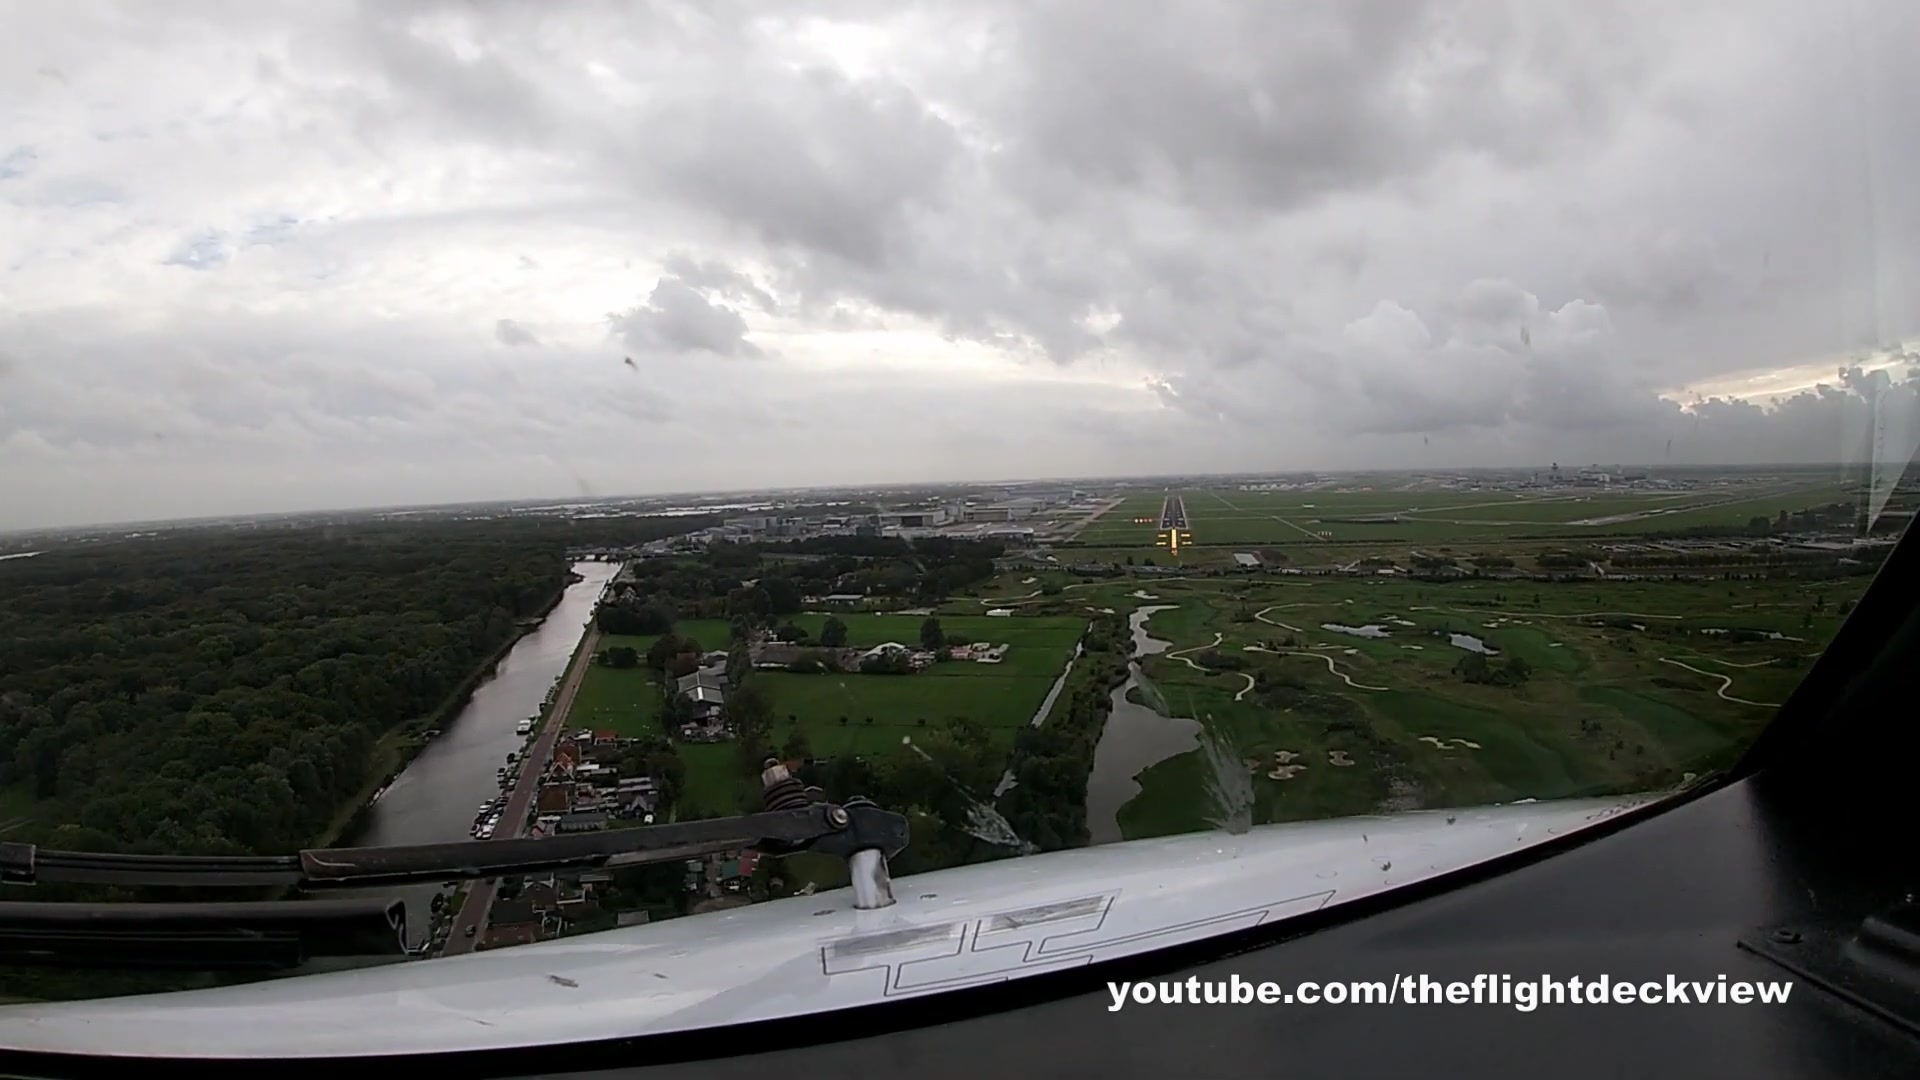runway: (1156, 492, 1189, 531)
